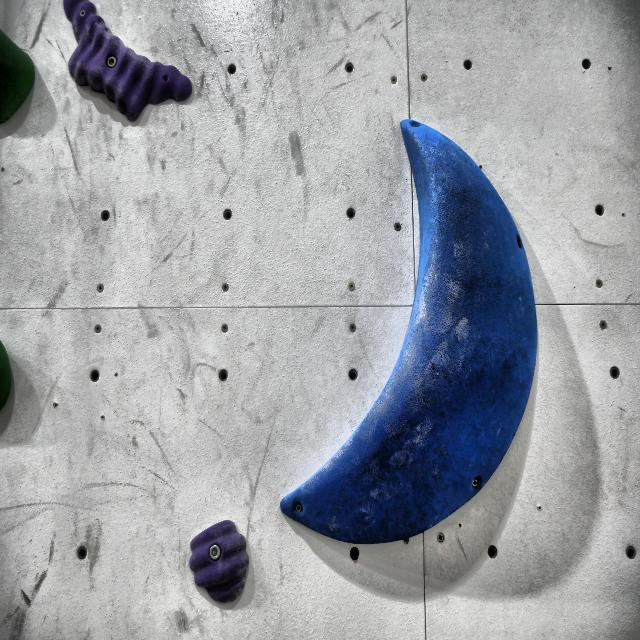Hold: (284, 96, 544, 546), (61, 0, 202, 128), (189, 517, 249, 607)
